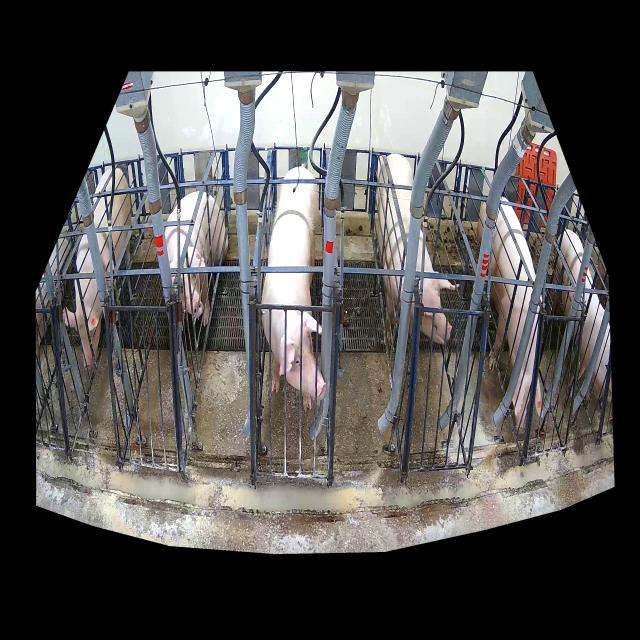pig: (262, 168, 326, 411), (476, 195, 542, 430), (378, 154, 456, 347), (66, 168, 131, 372), (552, 230, 611, 401), (165, 190, 228, 330)
